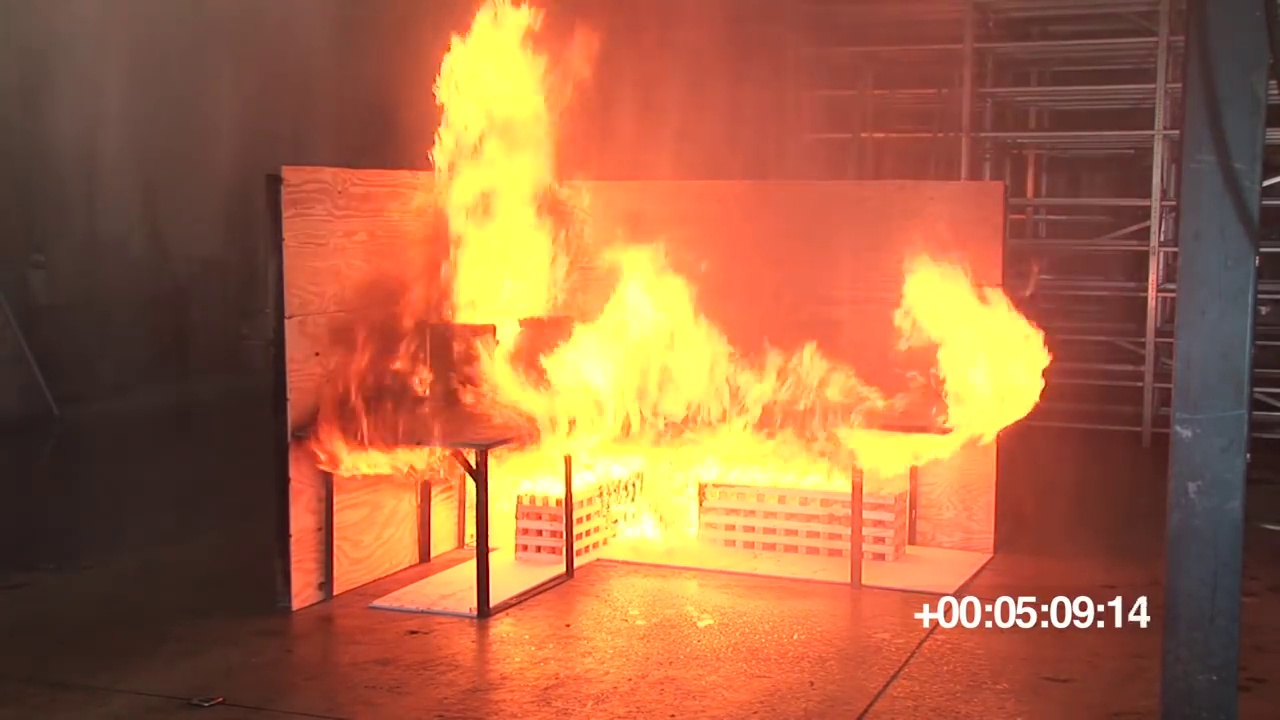fire: (491, 430, 972, 549), (435, 1, 565, 419), (549, 247, 731, 427), (902, 263, 1048, 422), (742, 337, 878, 430), (314, 440, 444, 478)
